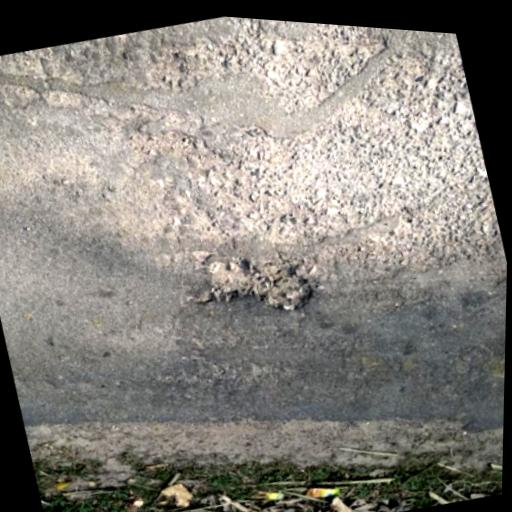pothole: (192, 234, 322, 338)
